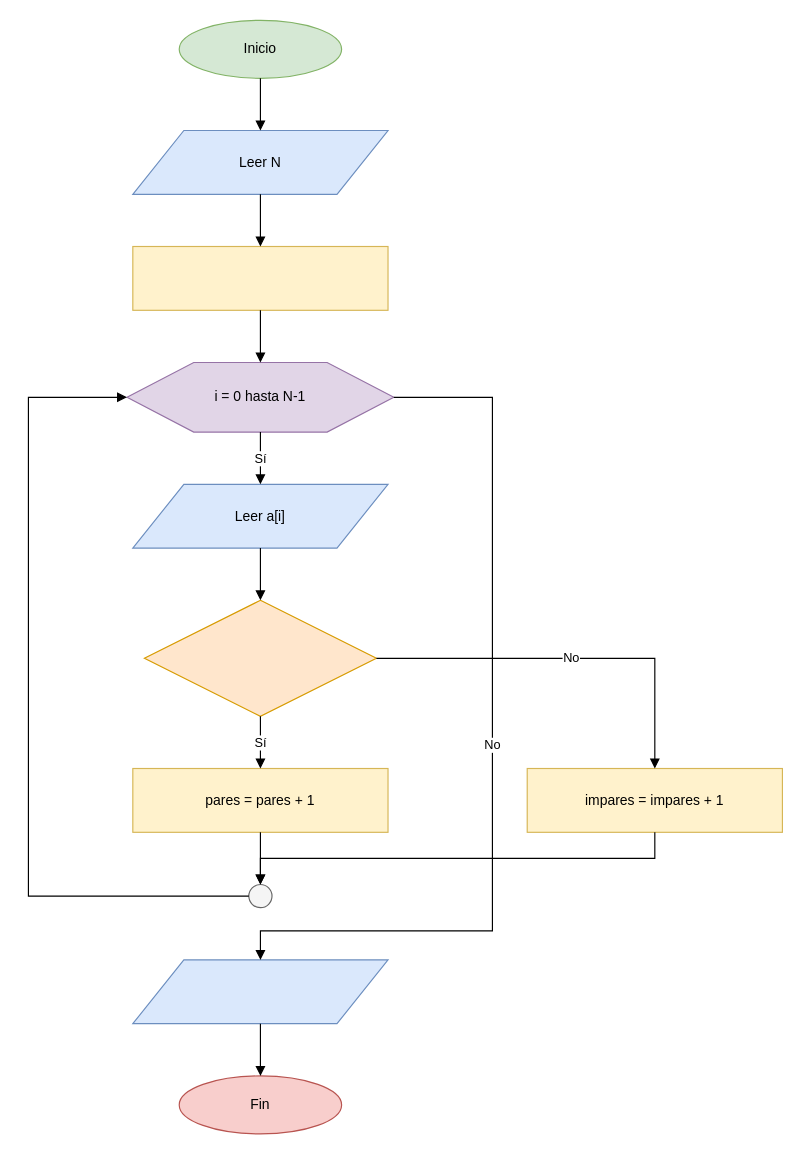
This 803x1154 diagram has some shape labels left out. Here are the shapes that lost their labels. From the top down, the centre of each, then its label:
the point at 260,277: Declarar a[N]; pares = 0; impares = 0
the point at 259,657: a[i] % 2 == 0
the point at 260,991: Imprimir pares e impares
